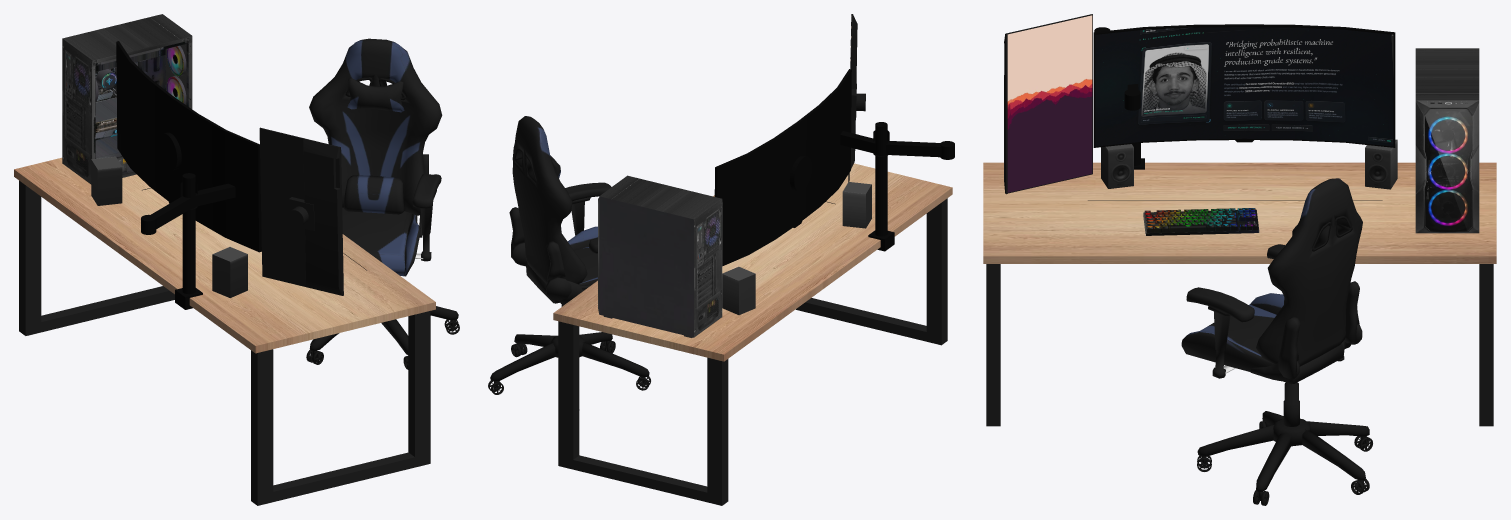
The model's file is desk1-optimized.glb.
3 renders of one model, left to right at view 1: azimuth 30°, elevation 25°; view 2: azimuth 150°, elevation 25°; view 3: azimuth 270°, elevation 25°, orthographic. The views are drawn at different scales.
Visible parts, largest first — view 1: desk, whole_boundary_Plane.004, Plane.006, Cylinder, Plane_Plane.001, Cube, Plane.001, Plane.003, Cube.002, Cube.004; view 2: desk, Plane_Plane.001, whole_boundary_Plane.004, Plane.006, Cube, Plane.003, Plane.001, Cube.004, Cylinder; view 3: desk, Plane.006, whole_boundary_Plane.004, Cylinder, Plane_Plane.001, Plane, Plane.003, Plane.001.
Part boxes in pixels (left/top/right/bottom): desk: left=14, top=157, right=435, bottom=505; whole_boundary_Plane.004: left=306, top=38, right=459, bottom=369; Plane.006: left=116, top=41, right=261, bottom=252; Cylinder: left=259, top=127, right=343, bottom=295; Plane_Plane.001: left=62, top=14, right=192, bottom=184; Cube: left=175, top=173, right=202, bottom=309; Plane.001: left=212, top=247, right=247, bottom=297; Plane.003: left=91, top=156, right=122, bottom=205; Cube.002: left=195, top=183, right=235, bottom=206; Cube.004: left=141, top=196, right=191, bottom=234; desk: left=553, top=163, right=952, bottom=505; Plane_Plane.001: left=598, top=175, right=722, bottom=337; whole_boundary_Plane.004: left=488, top=116, right=650, bottom=394; Plane.006: left=714, top=69, right=851, bottom=266; Cube: left=868, top=122, right=894, bottom=251; Plane.003: left=722, top=266, right=755, bottom=314; Plane.001: left=842, top=182, right=871, bottom=228; Cube.004: left=886, top=141, right=954, bottom=159; Cylinder: left=848, top=14, right=865, bottom=181; desk: left=983, top=162, right=1496, bottom=426; Plane.006: left=1093, top=24, right=1395, bottom=147; whole_boundary_Plane.004: left=1181, top=178, right=1372, bottom=505; Cylinder: left=1004, top=14, right=1092, bottom=194; Plane_Plane.001: left=1415, top=48, right=1479, bottom=233; Plane: left=1143, top=208, right=1259, bottom=235; Plane.003: left=1365, top=139, right=1397, bottom=189; Plane.001: left=1101, top=144, right=1133, bottom=188.
Size of the model in its own units: 6.57 by 5.27 by 7.
21 materials, 12 textured.
